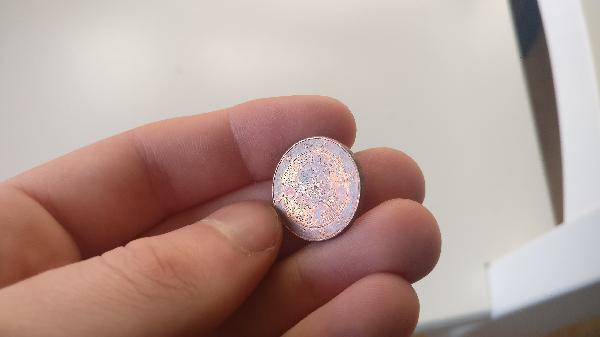Five Cent: (266, 134, 374, 239)
